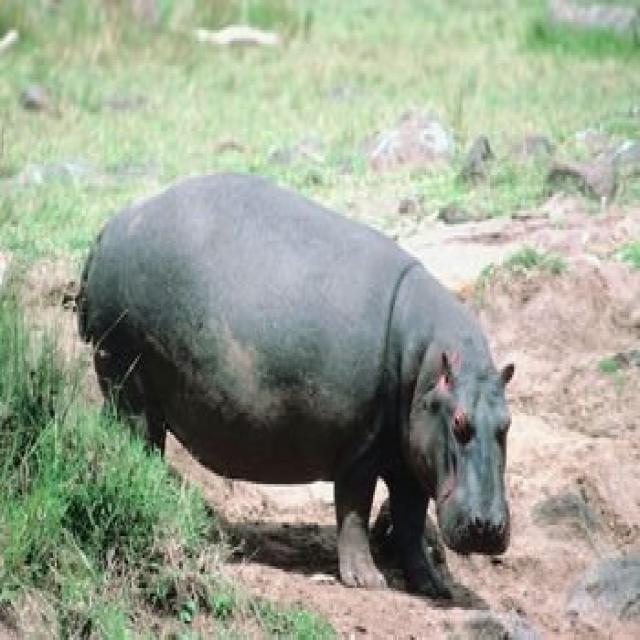hippopotamus: (75, 172, 512, 591)
